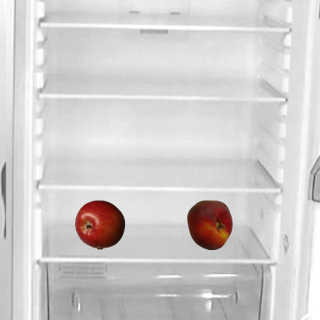Apple Braeburn: (74, 199, 124, 249)
Nectarine Flat: (184, 199, 234, 249)
